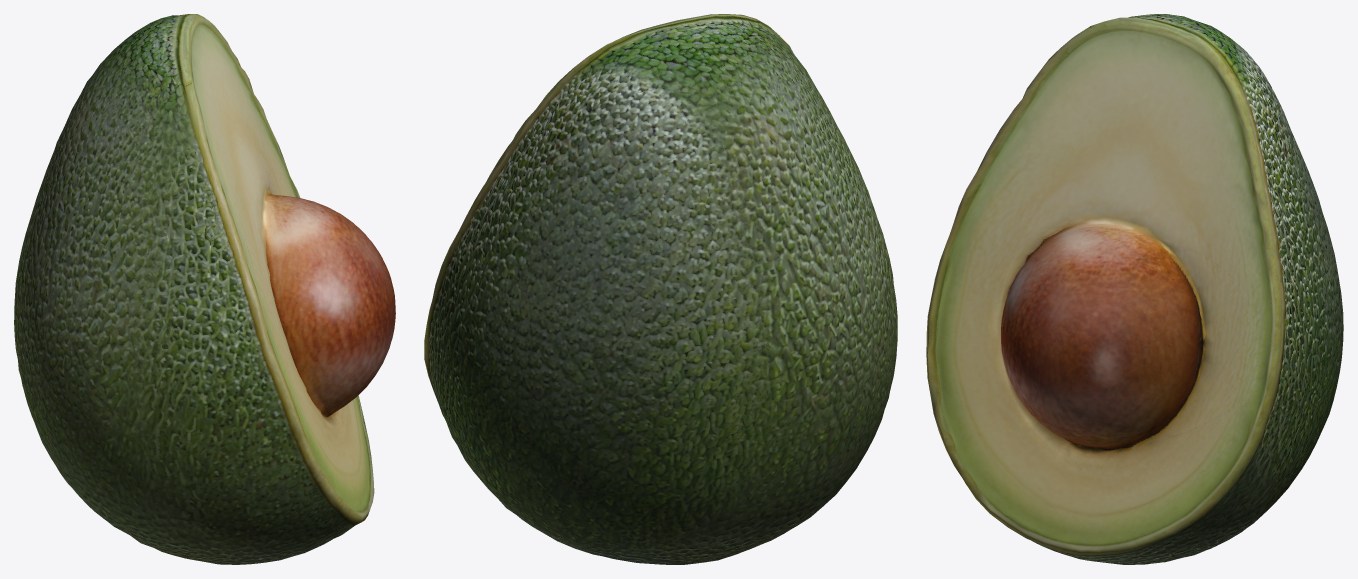
File: avocado.fbx
3 views of the same model, side by side, from view 1: azimuth 30°, elevation 25°; view 2: azimuth 150°, elevation 25°; view 3: azimuth 270°, elevation 25° (orthographic). The views are drawn at different scales.
Visible parts, largest first — view 1: texture_mapping; view 2: texture_mapping; view 3: texture_mapping.
Part boxes in pixels (box(x1,y1,x2,y2)): texture_mapping: box(14, 14, 395, 564); texture_mapping: box(424, 14, 897, 564); texture_mapping: box(926, 14, 1343, 564).
Bounding box in the file's own units: 0.7231 × 0.7514 × 0.998.
Materials: 1 (1 with a texture image).
